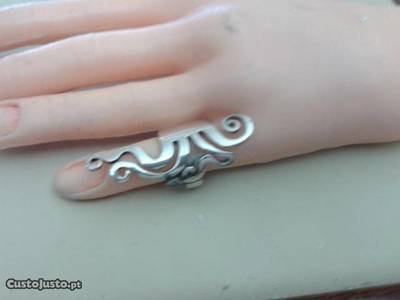mindinho: (51, 121, 266, 208)
